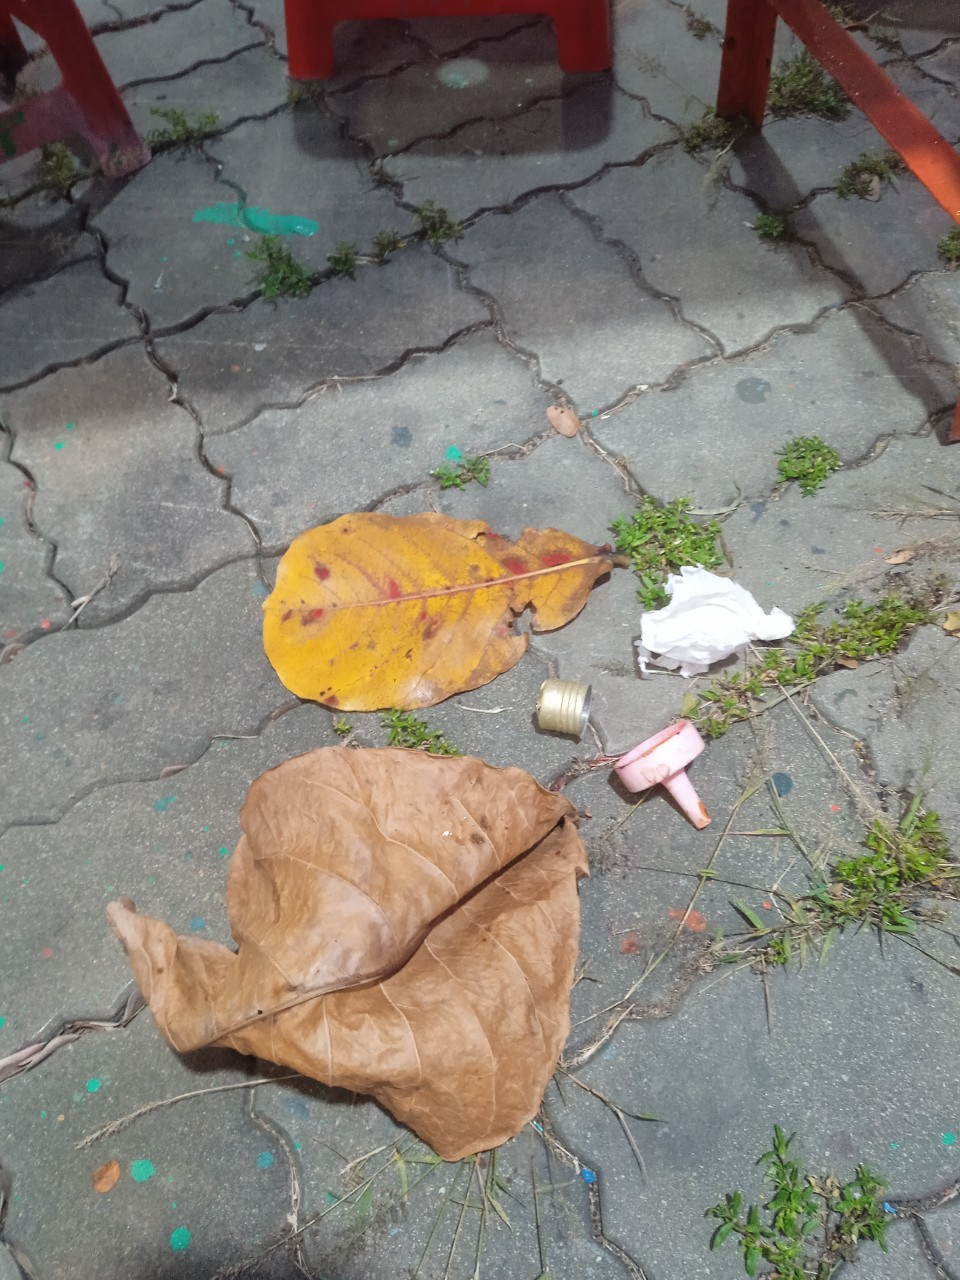paper: (614, 545, 835, 701)
plastic: (607, 721, 754, 852), (528, 673, 597, 757)
trash: (119, 740, 588, 1159), (250, 493, 664, 724)
